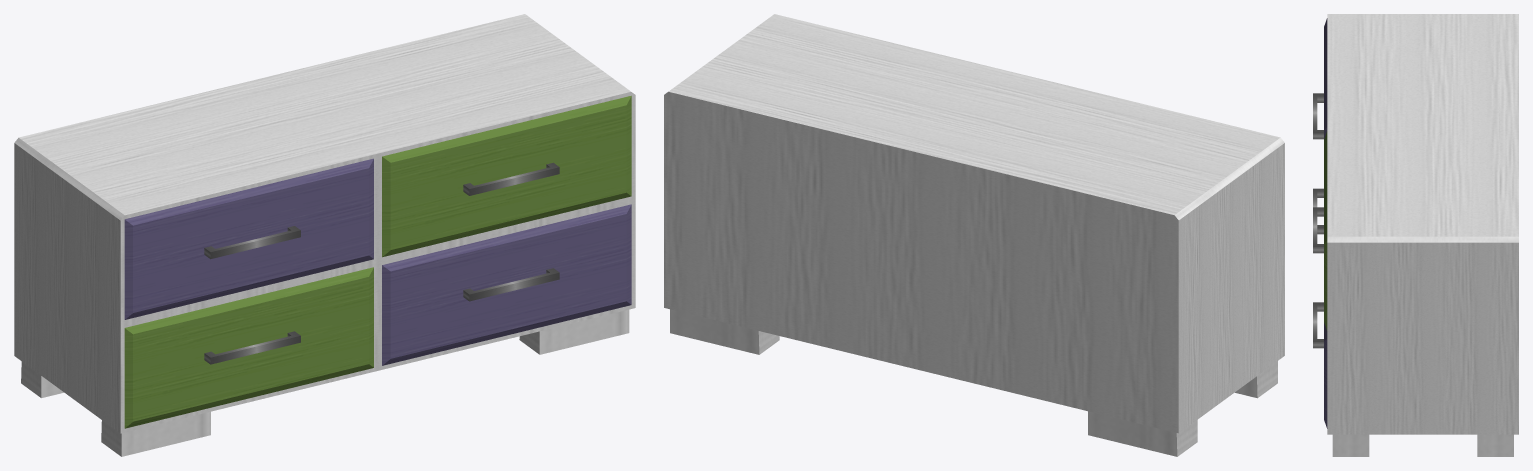
The model's file is Kids_Dresser_C.FBX.
The picture shows the model from 3 angles, left to right: view 1: azimuth 30°, elevation 25°; view 2: azimuth 150°, elevation 25°; view 3: azimuth 270°, elevation 25°; orthographic projection. The views are drawn at different scales.
Parts seen in each view (by area): view 1: Kids_Dresser; view 2: Kids_Dresser; view 3: Kids_Dresser.
Boxes of the visible parts, bbox=[...] form: Kids_Dresser: bbox=[14, 14, 635, 456]; Kids_Dresser: bbox=[664, 14, 1284, 456]; Kids_Dresser: bbox=[1313, 14, 1518, 456].
Size of the model in its own units: 284 by 129 by 109.
